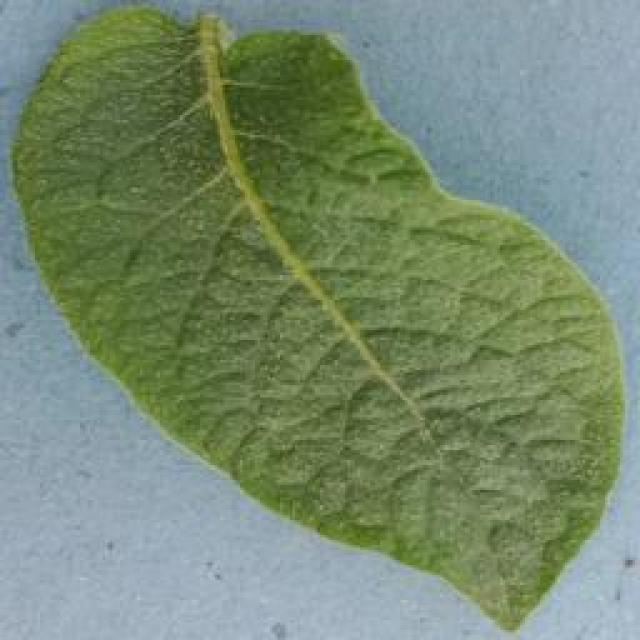Potato_Healthy: (5, 6, 638, 634)
